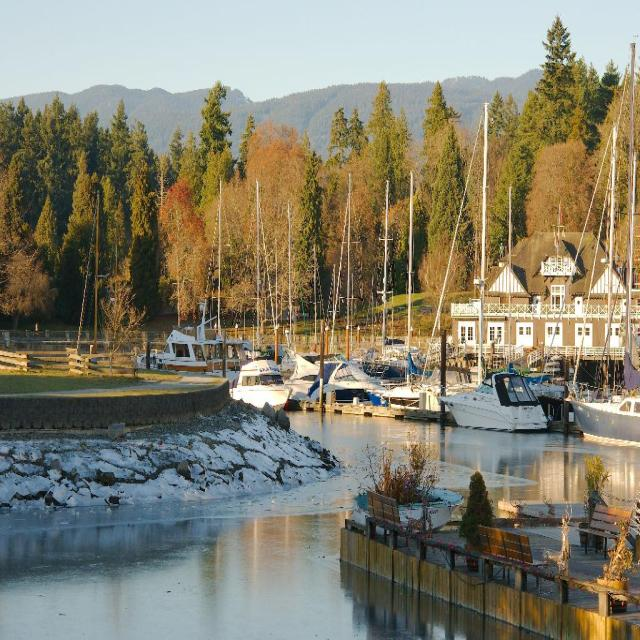Boat: (435, 103, 549, 436), (309, 164, 390, 408), (368, 167, 441, 412), (230, 174, 297, 414), (144, 216, 206, 374), (205, 305, 252, 371), (375, 342, 417, 368), (255, 349, 301, 372), (290, 348, 316, 388)
